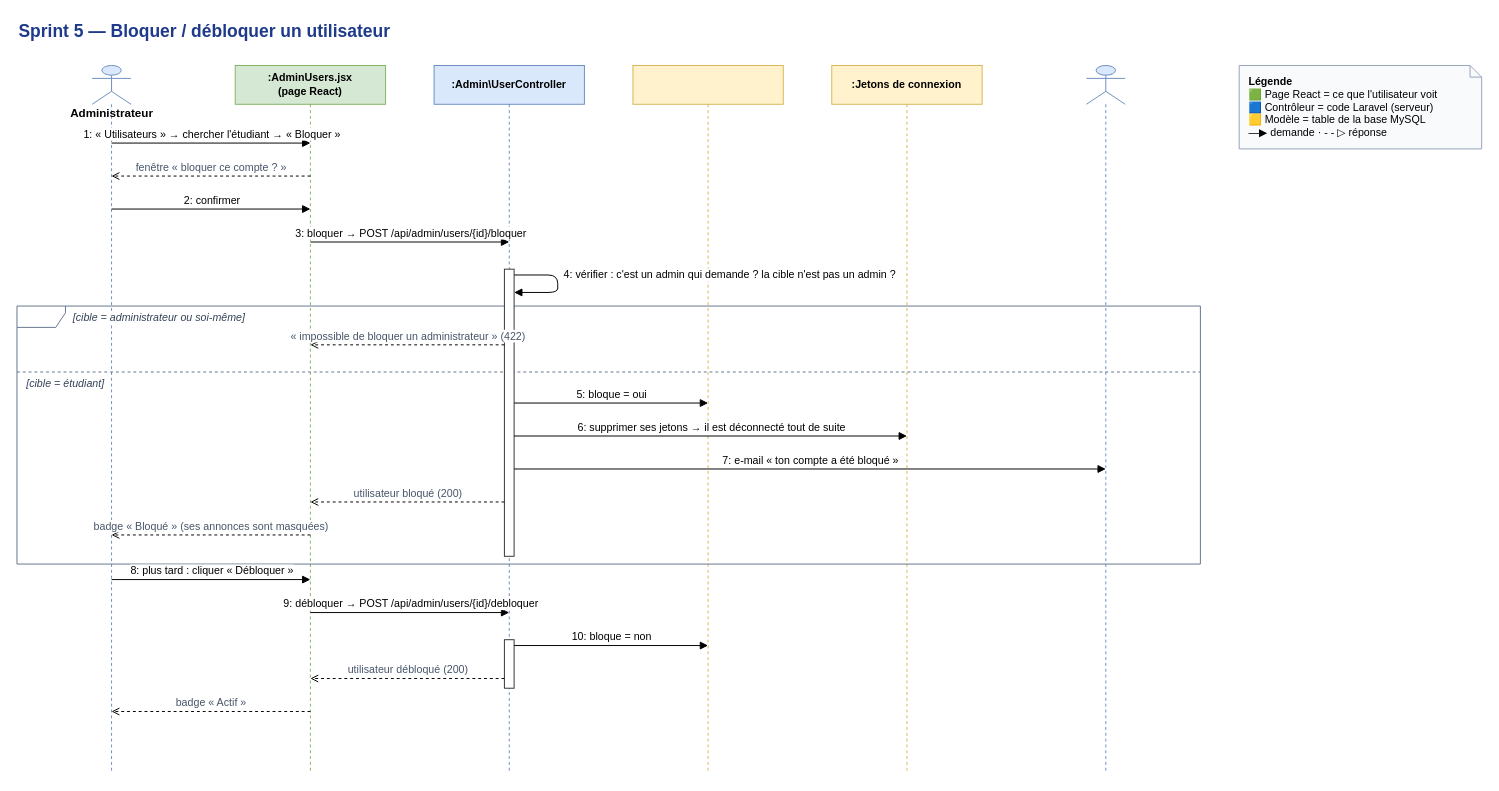
The diagram is 1499 pixels wide and 791 high, and some of its shapes have lost their labels. The shapes that lost their labels are listed below. From the top down, each one's box as (x1, y1, x2, y2) in pixels, then its label:
(16, 305, 1200, 564): alt
(632, 65, 783, 774): :User
(1085, 65, 1125, 774): Étudiant
